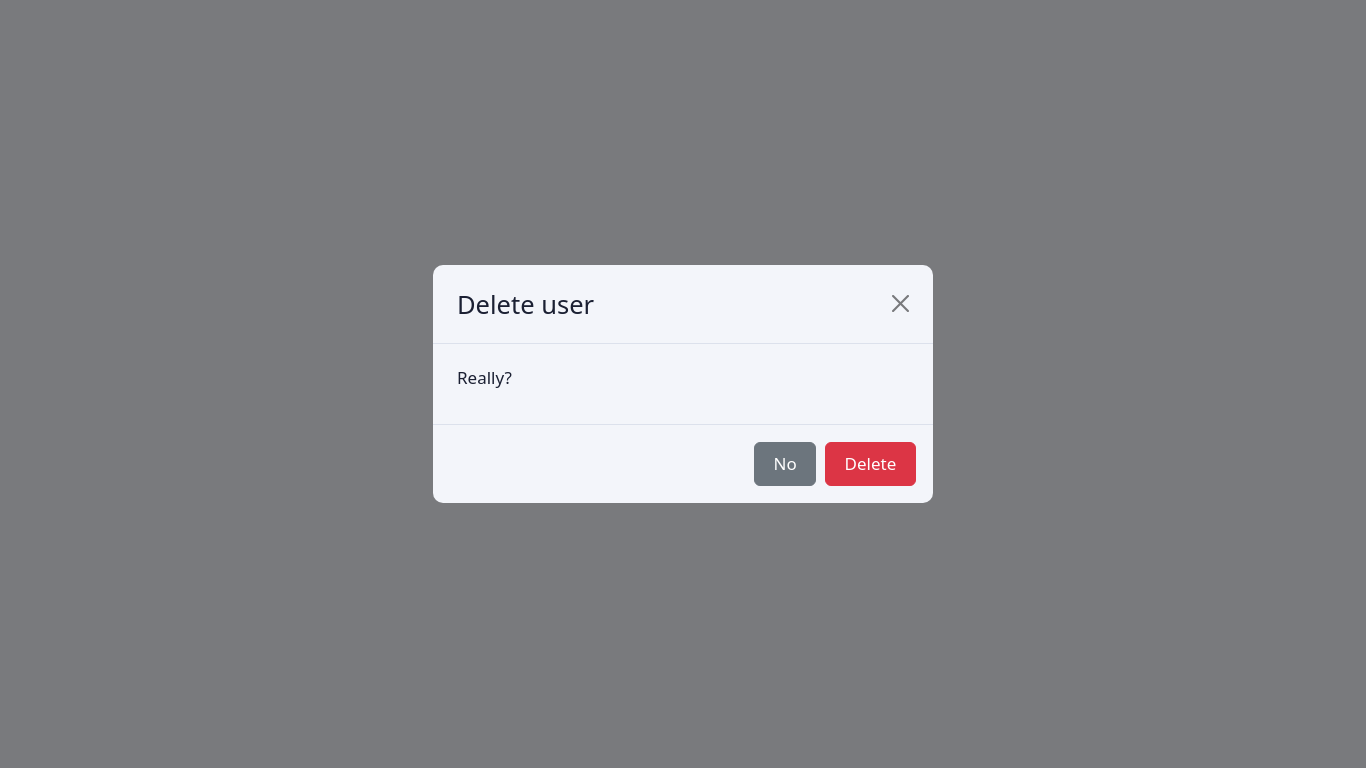
it: stays open and shows the backend's reason on a 409
Click the button "Delete".
click(870, 464)  # box [825,442,916,486]
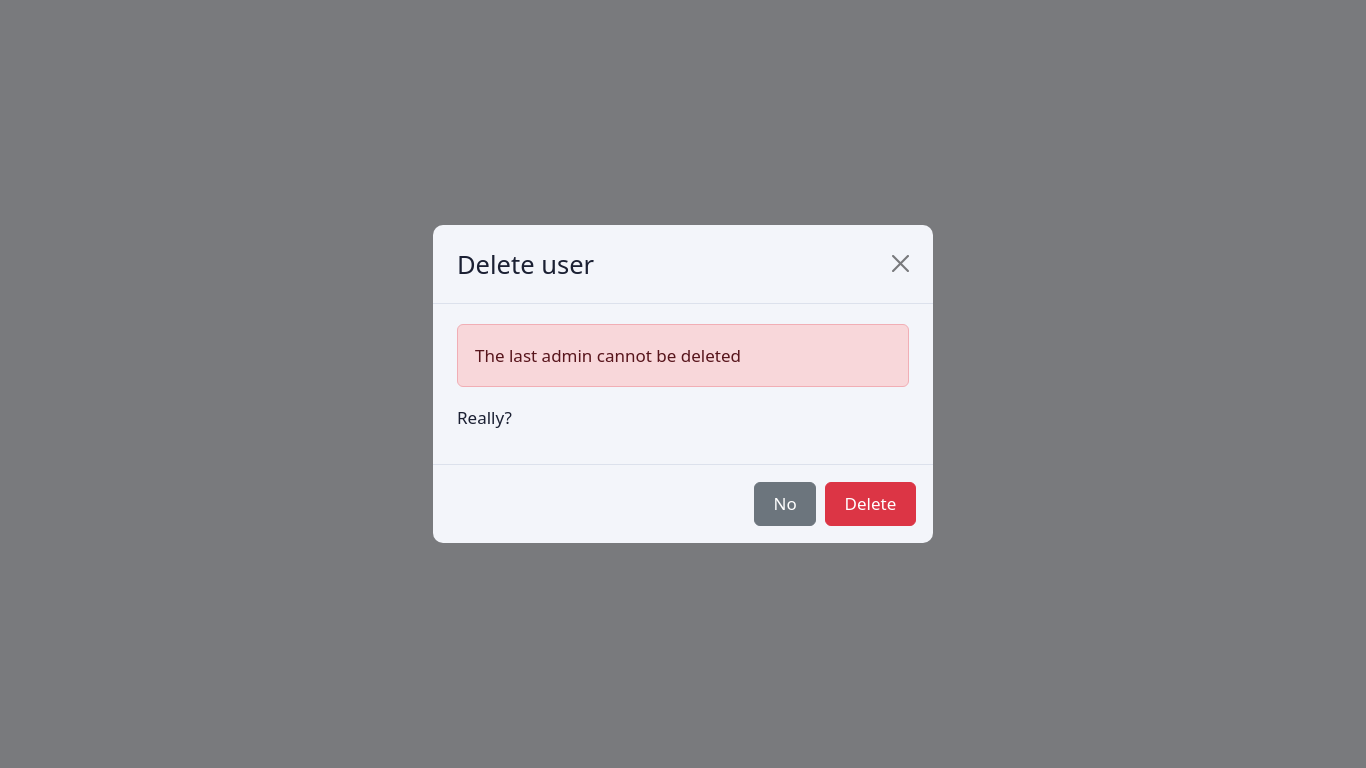
Check: the message reads "The last admin cannot be deleted", box [475,344,741,367]
